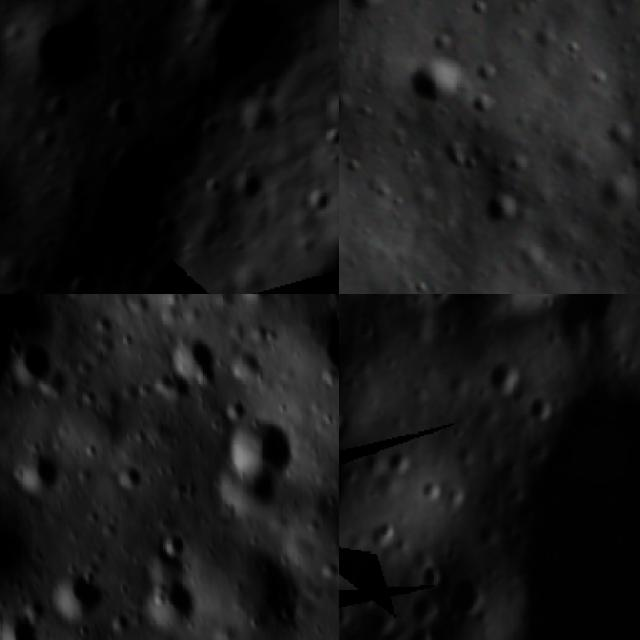crater: (16, 0, 117, 104), (227, 551, 321, 640), (221, 406, 302, 478), (295, 310, 339, 433), (339, 430, 383, 544), (210, 463, 280, 520), (406, 54, 472, 113), (142, 575, 208, 633), (441, 572, 500, 628), (171, 329, 223, 389), (52, 565, 108, 616), (0, 499, 34, 582), (16, 446, 74, 491), (237, 99, 284, 150), (482, 192, 528, 240), (17, 339, 62, 387), (100, 98, 142, 140), (152, 366, 194, 408), (484, 356, 524, 396), (230, 166, 264, 212), (0, 334, 20, 400), (0, 612, 46, 640), (120, 459, 154, 496), (65, 262, 104, 294), (160, 527, 193, 564), (188, 0, 225, 26), (0, 225, 11, 284)
